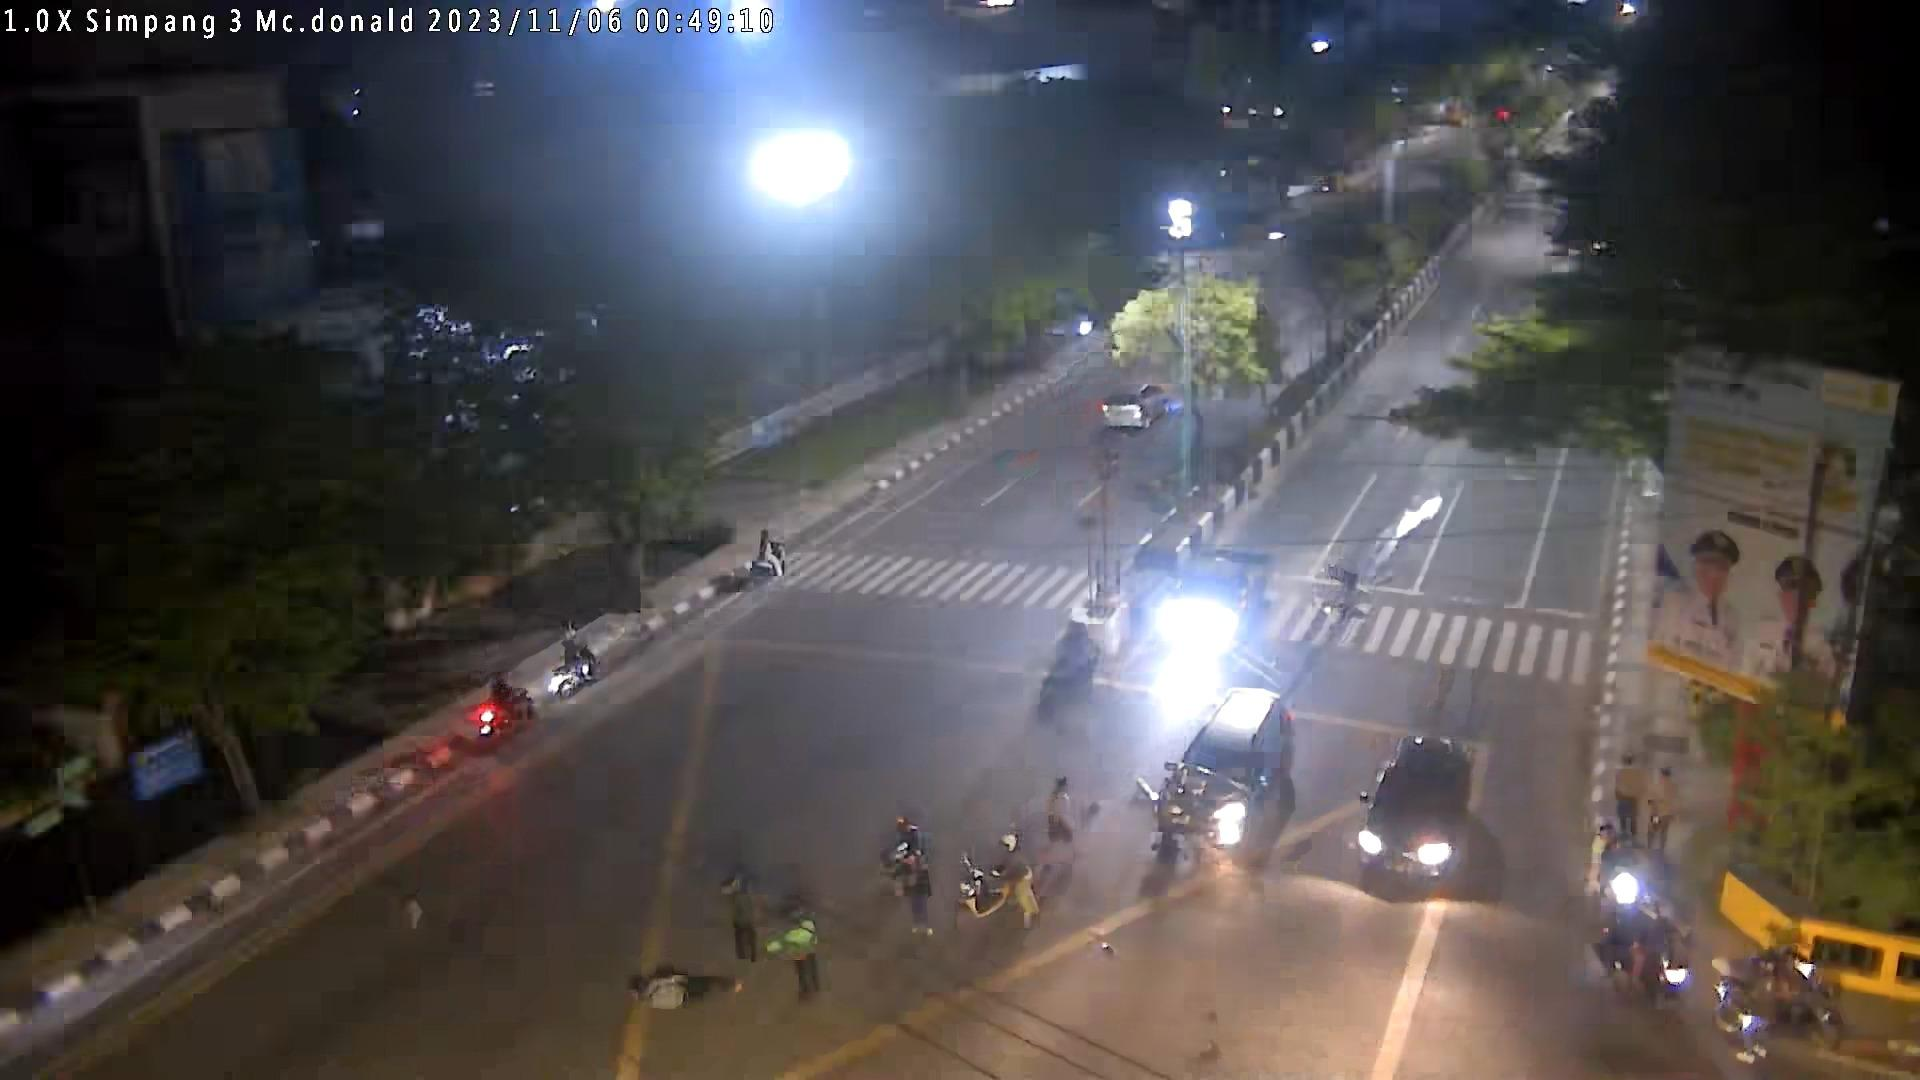accident: (628, 963, 745, 1011)
